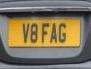8: (29, 22, 39, 43)
A: (50, 22, 58, 44)
F: (40, 22, 50, 44)
G: (58, 22, 68, 43)
V: (21, 22, 29, 43)
